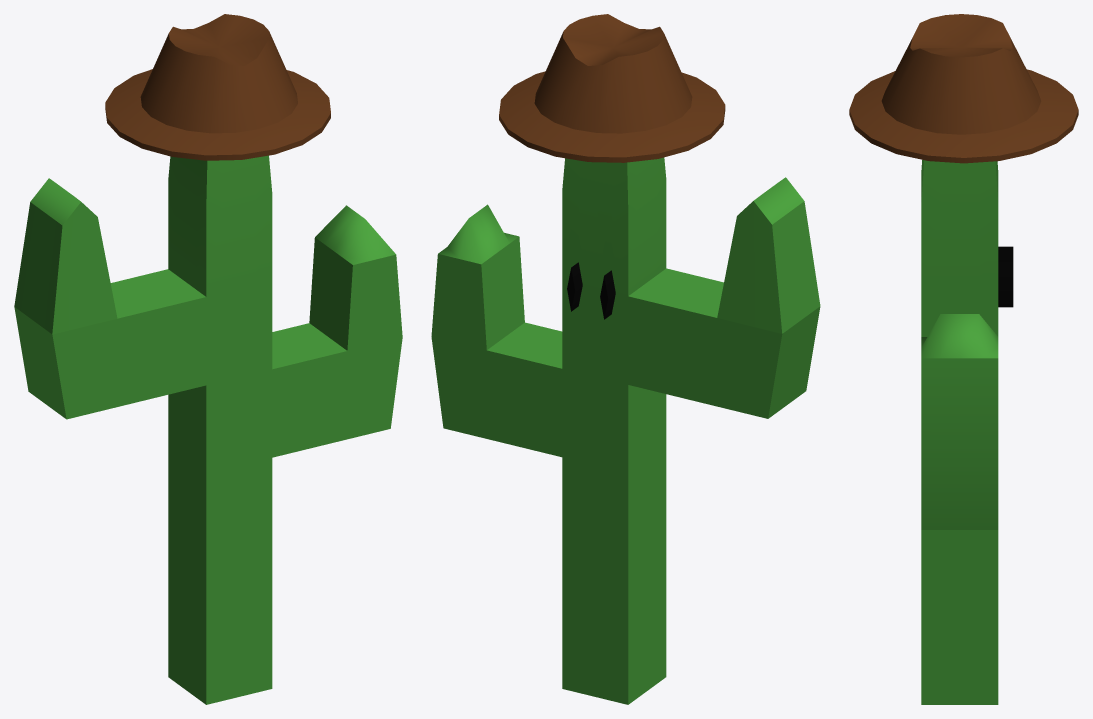
The model's file is cactus.gltf.
3 renders of one model, left to right at view 1: azimuth 30°, elevation 25°; view 2: azimuth 150°, elevation 25°; view 3: azimuth 270°, elevation 25°, orthographic.
Parts seen in each view (by area): view 1: cactus; view 2: cactus; view 3: cactus.
Boxes of the visible parts, x1,y1,x2,y2 form: cactus: (14, 14, 402, 704); cactus: (431, 14, 820, 704); cactus: (849, 14, 1078, 704).
Size of the model in its own units: 5.31 by 9.37 by 2.98.
